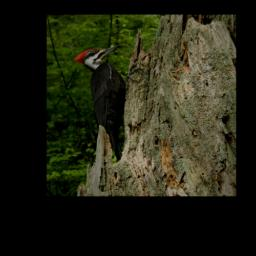Woodpecker: (73, 45, 143, 163)
